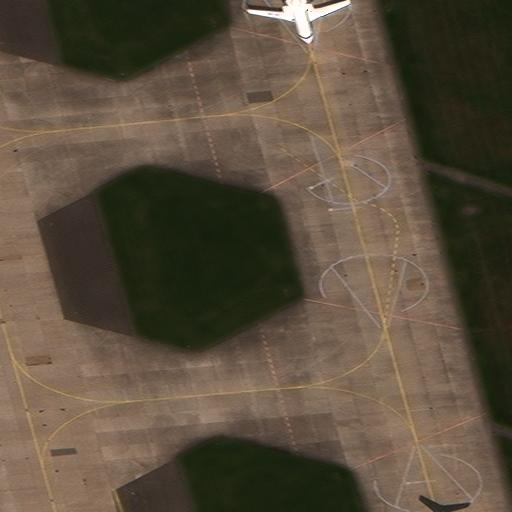Medium Civil Transport: (248, 0, 352, 46)
